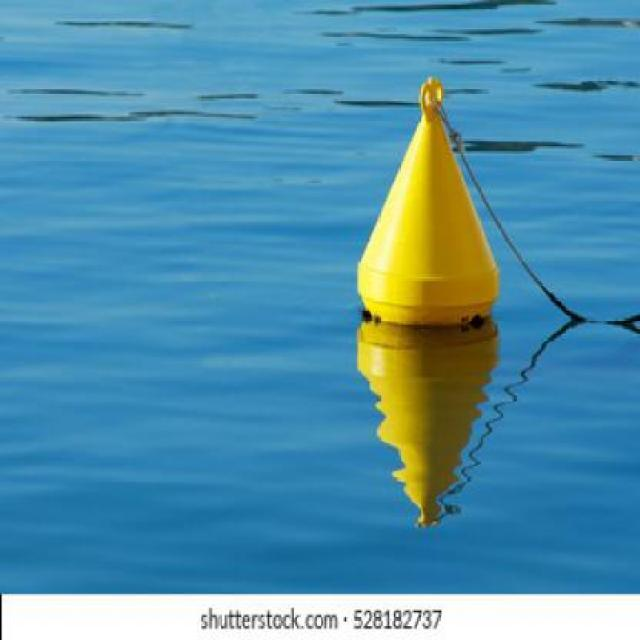a: (348, 70, 517, 333)
